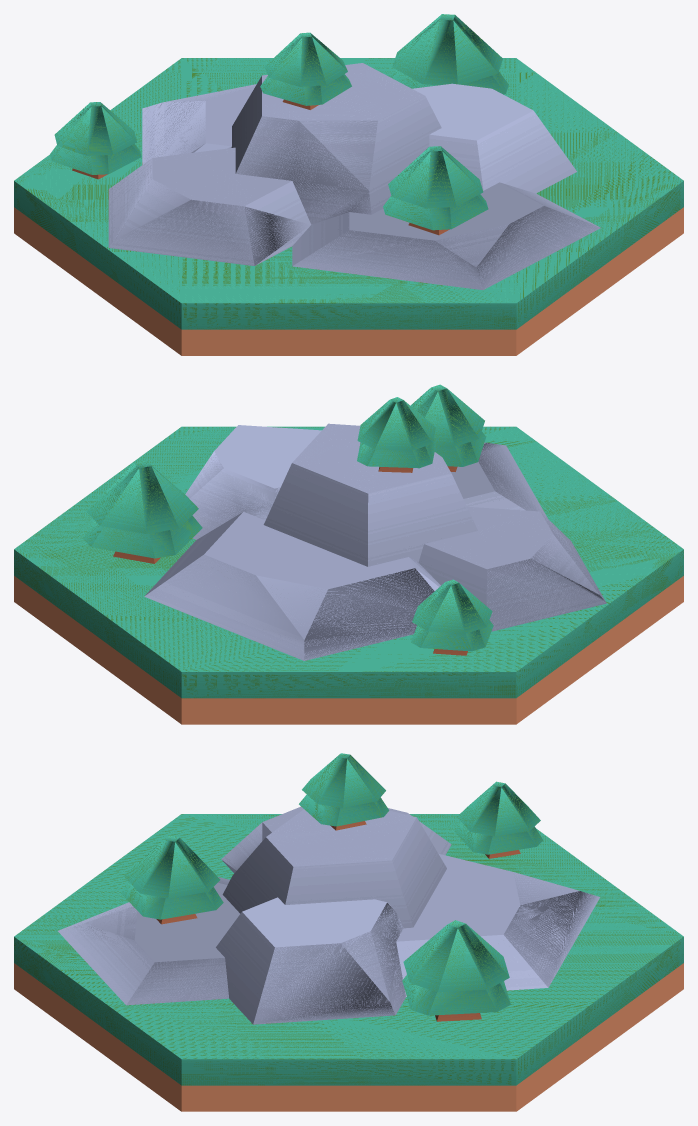
File: hill_grassland.glb
3 views of the same model, one above another, from view 1: azimuth 30°, elevation 25°; view 2: azimuth 150°, elevation 25°; view 3: azimuth 270°, elevation 25° (orthographic).
Visible parts, largest first — view 1: grass-hill; view 2: grass-hill; view 3: grass-hill.
Part boxes in pixels (x1,y1,x2,y2): grass-hill: [14, 14, 683, 355]; grass-hill: [14, 384, 683, 724]; grass-hill: [14, 753, 683, 1111].
Bounding box in the file's own units: 1 × 0.4016 × 1.15.
1 material, 1 textured.
